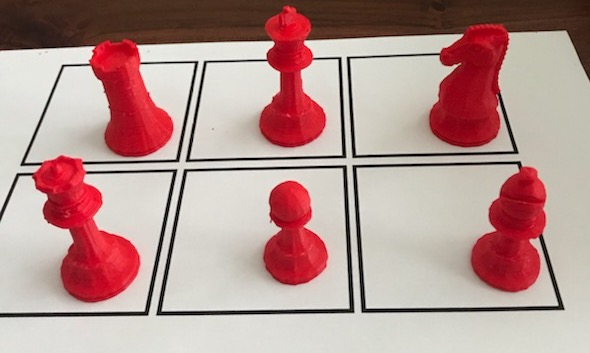Red Bishop: (466, 161, 550, 295)
Red Castle: (80, 31, 176, 160)
Red King: (246, 4, 338, 148)
Red Knight: (424, 19, 516, 153)
Red Pawn: (257, 173, 339, 291)
Red Queen: (25, 148, 146, 310)
